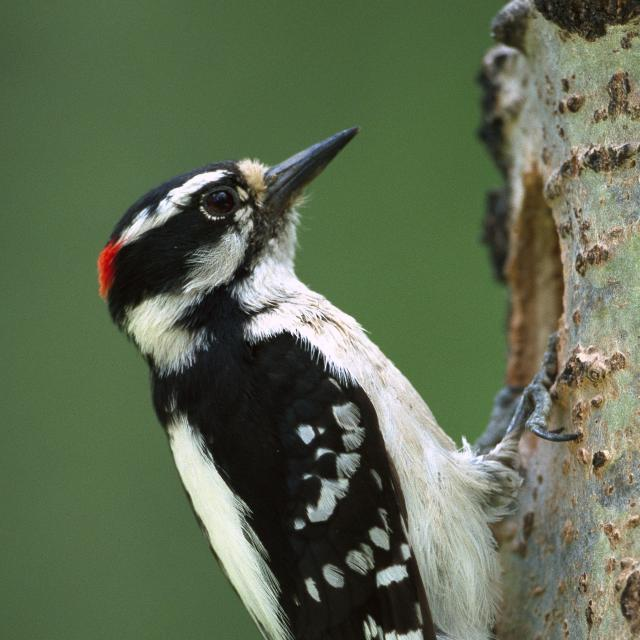Woodpecker: (84, 111, 578, 640)
